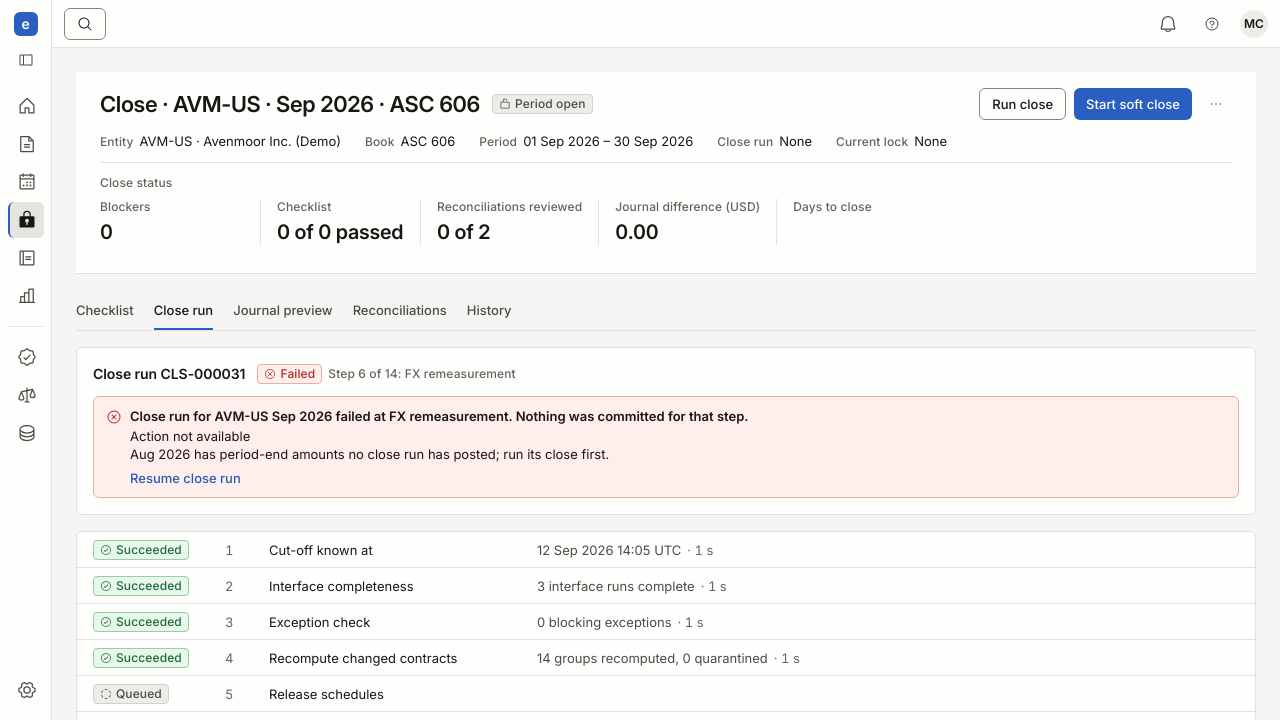
SF-05:close-run › a run that failed at a step shows the step's problem and is resumed
expect the element with test id "SF-05-banner-close-run-failed" shows "Close run for AVM-US Sep 2026 failed at FX remeasurement. Nothing was committed for that step.": met, box top-left (130, 408), bottom-right (748, 424)
expect the element with test id "SF-05-banner-close-run-failed" shows "Aug 2026 has period-end amounts no close run has posted; run its close first.": met, box top-left (130, 446), bottom-right (609, 462)
Click the button "Resume close run": [185, 478] box top-left (130, 469), bottom-right (241, 487)
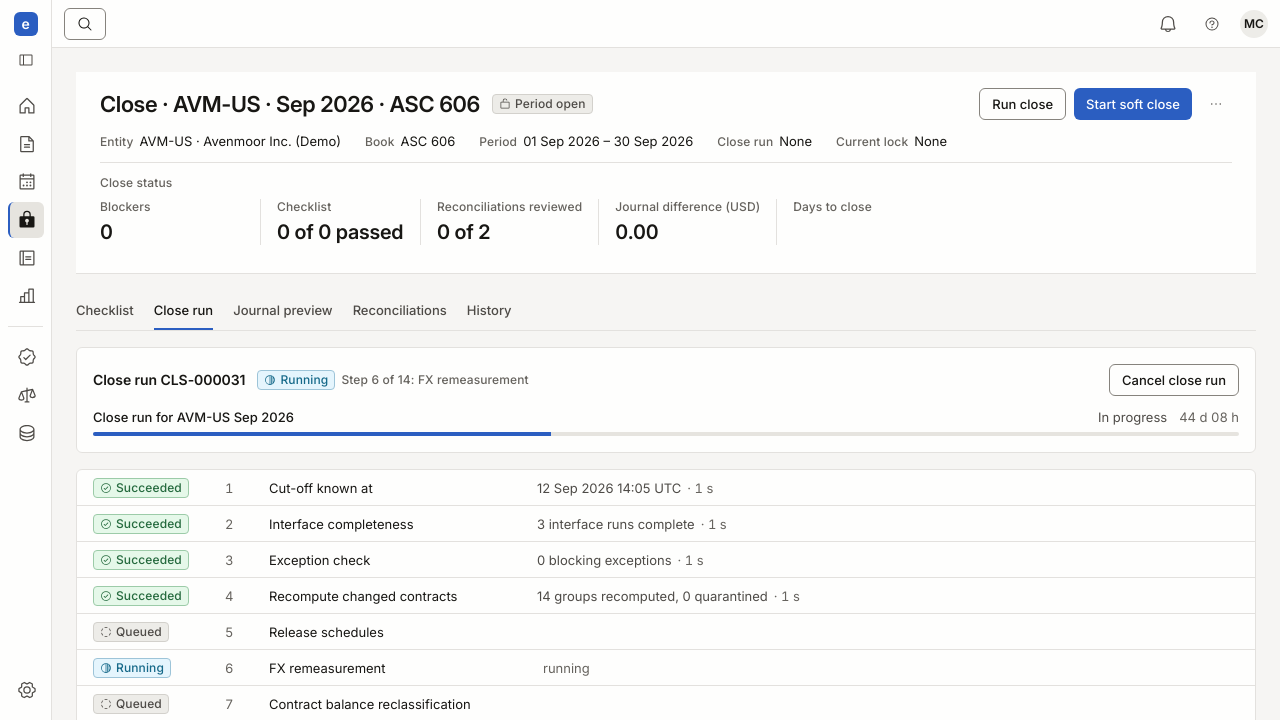
expect the progress indicator named "Close run for AVM-US Sep 2026" is shown: met, box top-left (93, 432), bottom-right (1239, 436)
expect the element with test id "SF-05-banner-close-run-failed" is gone: met
expect the element "Close run CLS-000031" shows "Running": met, box top-left (280, 372), bottom-right (328, 387)
